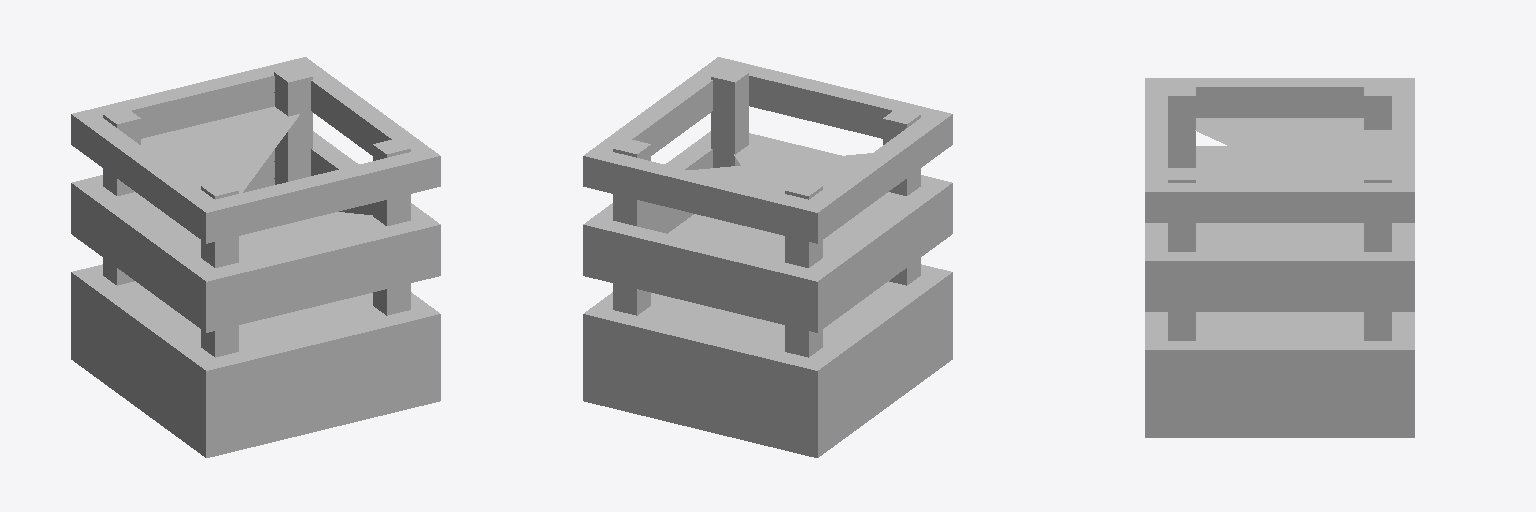
Rendered from Crate.obj.
3 renders of one model, left to right at view 1: azimuth 30°, elevation 25°; view 2: azimuth 150°, elevation 25°; view 3: azimuth 270°, elevation 25°, orthographic.
Visible parts, largest first — view 1: Cube.033; view 2: Cube.033; view 3: Cube.033.
Part boxes in pixels (x1,y1,x2,y2): Cube.033: (71, 57, 440, 457); Cube.033: (583, 57, 952, 457); Cube.033: (1145, 78, 1414, 437).
Size of the model in its own units: 1.71 by 1.73 by 1.71.